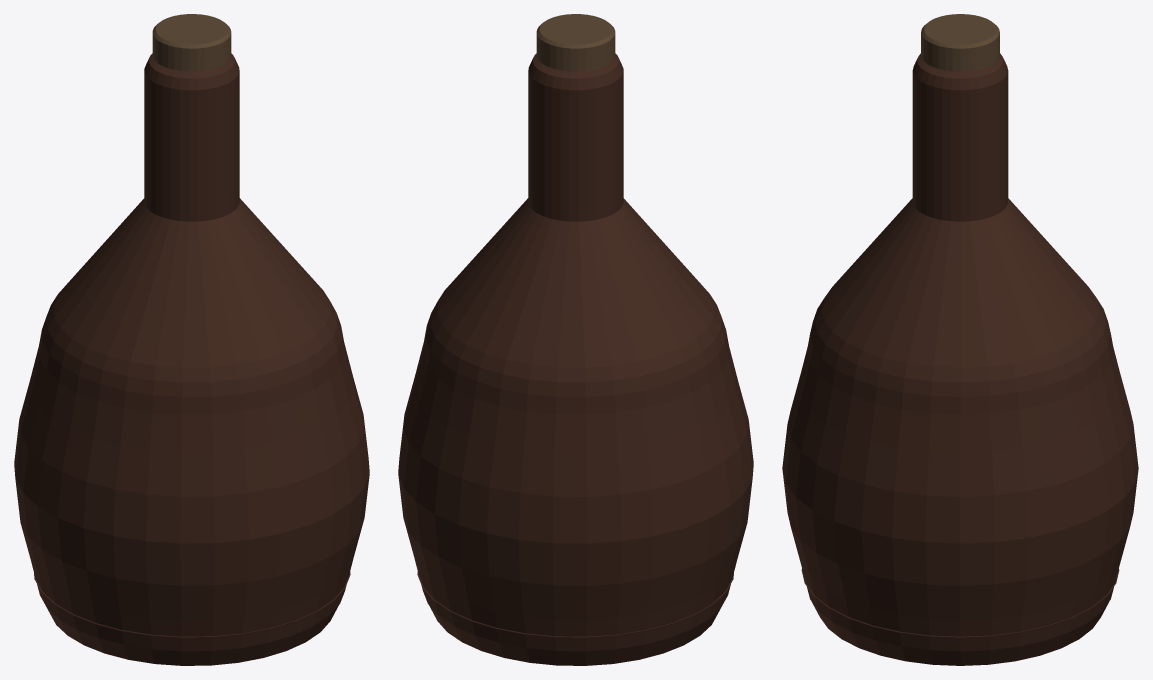
Rendered from bottle2.fbx.
The picture shows the model from 3 angles, left to right: view 1: azimuth 30°, elevation 25°; view 2: azimuth 150°, elevation 25°; view 3: azimuth 270°, elevation 25°; orthographic projection.
Visible parts, largest first — view 1: Circle, Circle.002; view 2: Circle, Circle.002; view 3: Circle, Circle.002.
Boxes of the visible parts, <box> form: Circle: <box>14,53,369,665</box>; Circle.002: <box>152,14,231,71</box>; Circle: <box>398,53,753,665</box>; Circle.002: <box>536,14,615,71</box>; Circle: <box>782,53,1138,665</box>; Circle.002: <box>921,14,999,71</box>.
Size of the model in its own units: 2.35 by 4.25 by 2.35.
